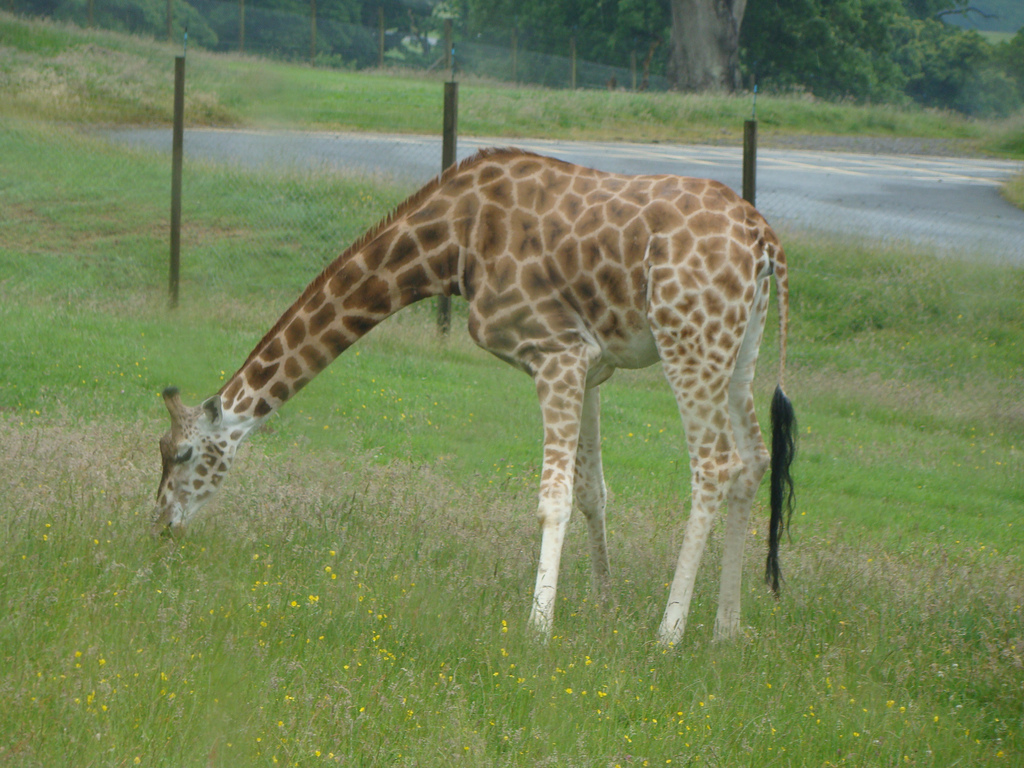giraffe: (112, 156, 812, 647)
